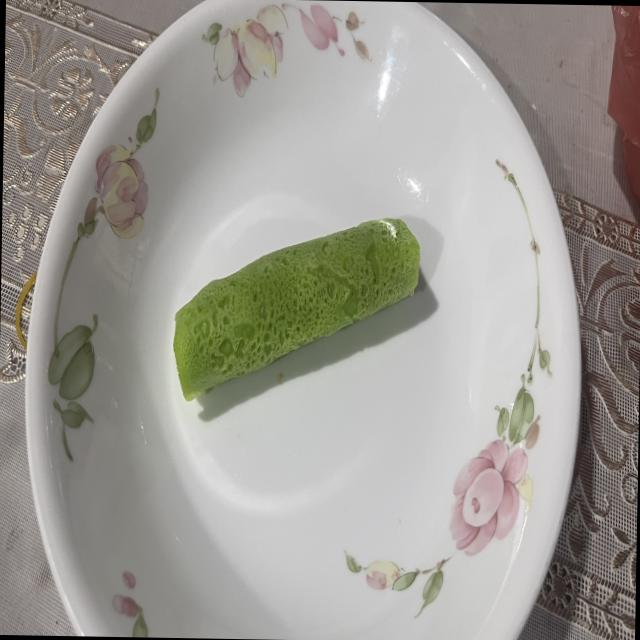Kuih-Ketayap: (173, 219, 420, 400)
